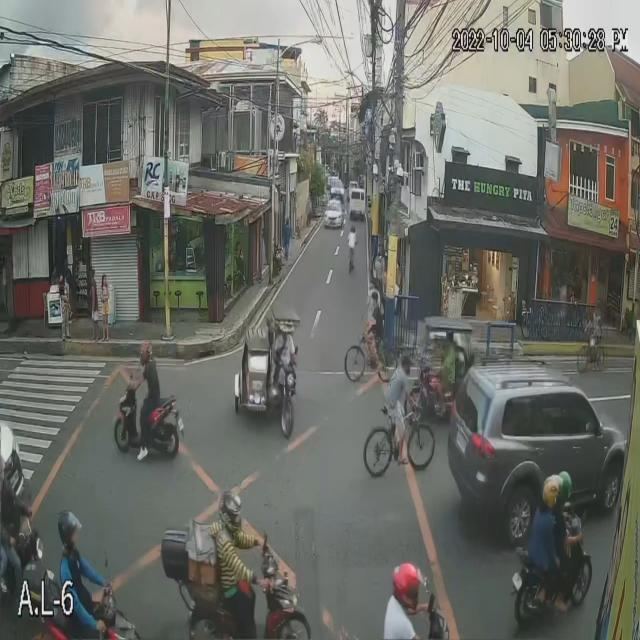full: (392, 562, 424, 611), (139, 340, 152, 366)
half: (217, 488, 243, 536), (58, 511, 82, 554), (541, 470, 563, 508), (558, 468, 572, 509)
